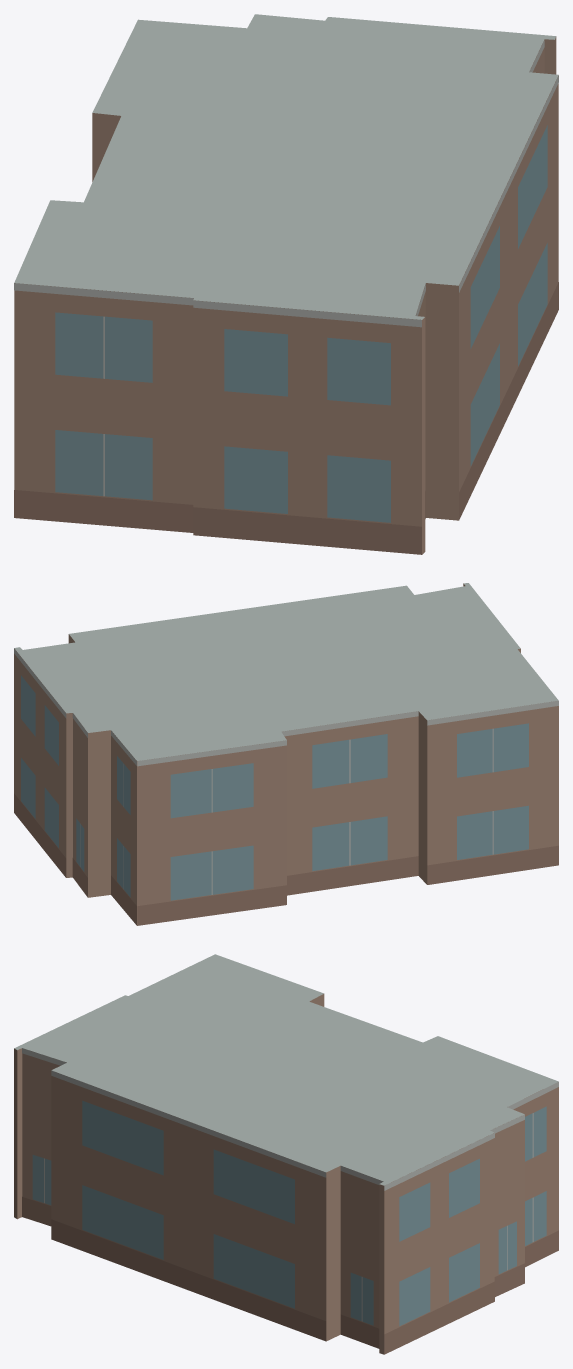
File: survey-upis-32469330.glb
3 renders of one model, top to bottom at view 1: azimuth 30°, elevation 25°; view 2: azimuth 150°, elevation 25°; view 3: azimuth 270°, elevation 25°, orthographic. The views are drawn at different scales.
Visible parts, largest first — view 1: survey-upis-32469330.tmp; view 2: survey-upis-32469330.tmp; view 3: survey-upis-32469330.tmp.
Boxes of the visible parts, <box> form: survey-upis-32469330.tmp: <box>14,14,558,554</box>; survey-upis-32469330.tmp: <box>14,583,558,925</box>; survey-upis-32469330.tmp: <box>14,954,558,1354</box>.
Size of the model in its own units: 22.6 by 7.69 by 22.47.
